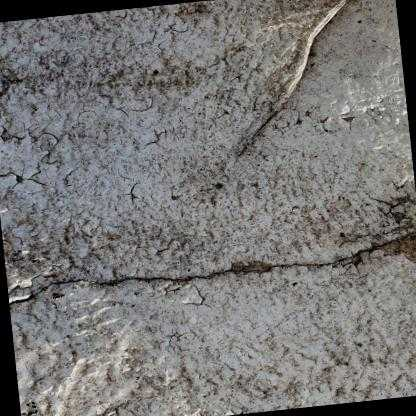crack: (8, 220, 416, 308), (229, 0, 360, 161)
